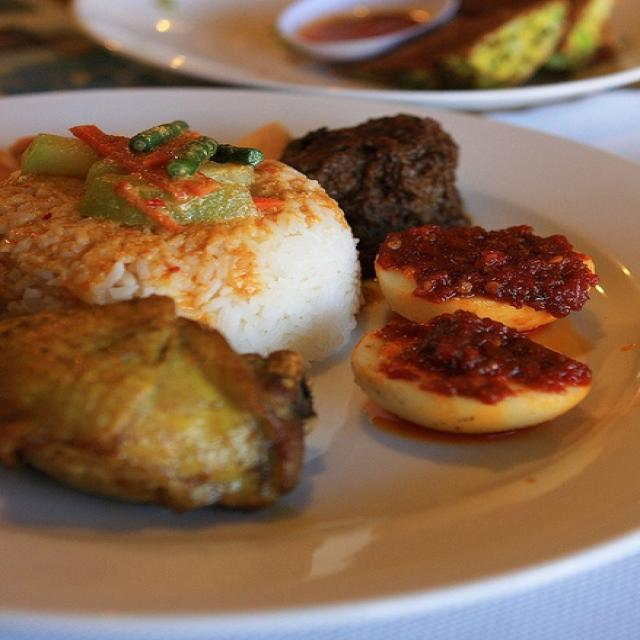米饭主食: (7, 10, 633, 627)
